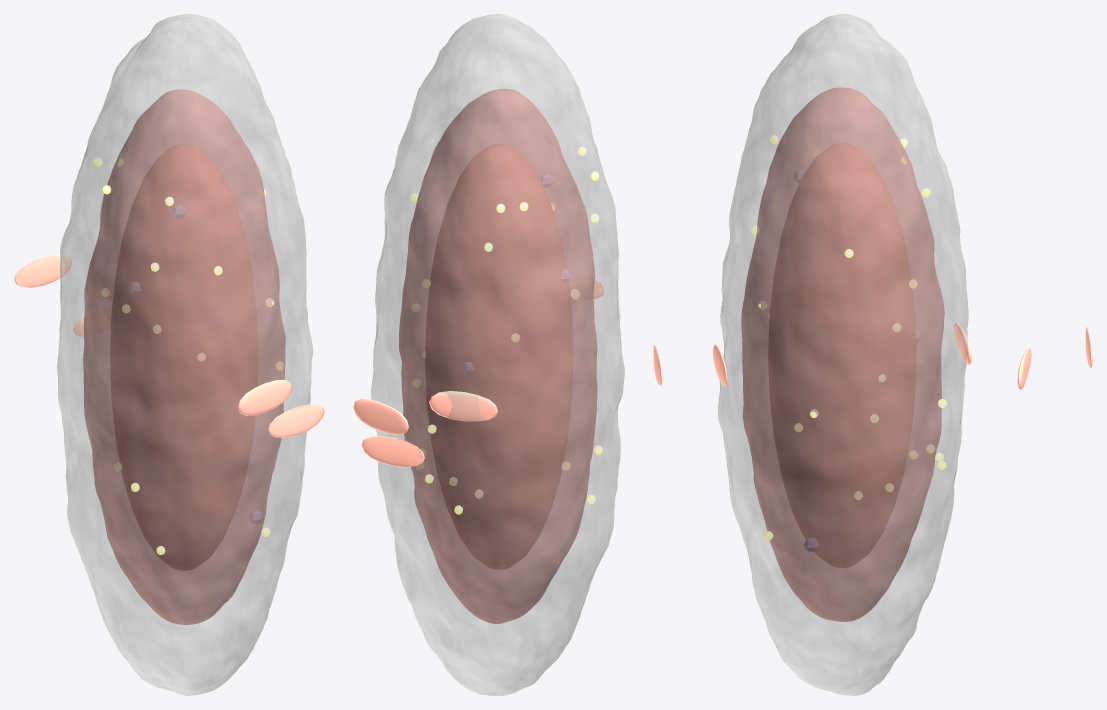
File: mitochondrion.glb
3 renders of one model, left to right at view 1: azimuth 30°, elevation 25°; view 2: azimuth 150°, elevation 25°; view 3: azimuth 270°, elevation 25°, orthographic.
Parts seen in each view (by area): view 1: OuterMembrane, InnerMembrane, Matrix, Crista_0, Crista_7, Crista_6; view 2: OuterMembrane, InnerMembrane, Matrix, Crista_2, Crista_0, Crista_1; view 3: OuterMembrane, InnerMembrane, Matrix.
Part boxes in pixels (x1,y1,x2,y2): OuterMembrane: (57, 14, 312, 695); InnerMembrane: (83, 89, 285, 624); Matrix: (110, 144, 258, 570); Crista_0: (14, 254, 71, 287); Crista_7: (268, 404, 324, 437); Crista_6: (237, 379, 292, 415); OuterMembrane: (371, 14, 624, 695); InnerMembrane: (399, 88, 597, 623); Matrix: (425, 144, 573, 569); Crista_2: (429, 391, 497, 421); Crista_0: (361, 436, 424, 467); Crista_1: (353, 399, 408, 434); OuterMembrane: (717, 14, 968, 695); InnerMembrane: (741, 87, 944, 621); Matrix: (768, 143, 916, 567).
Size of the model in its own units: 0.8323 by 2.4 by 1.42.
